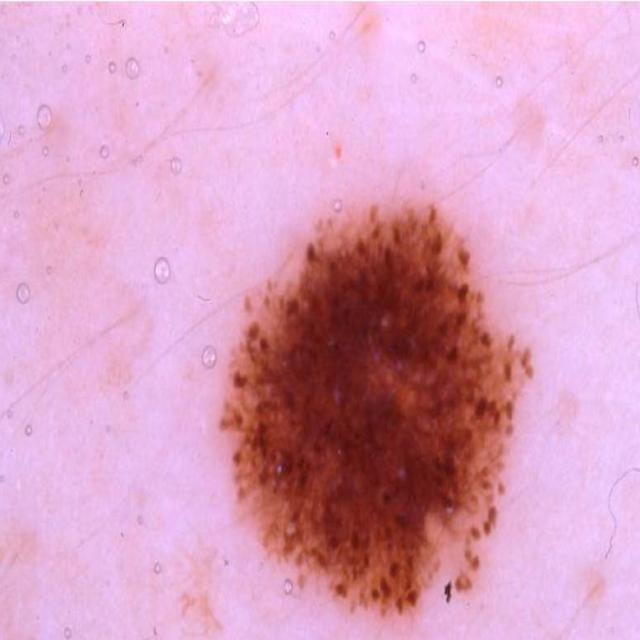Melanoma: (195, 173, 592, 640)
